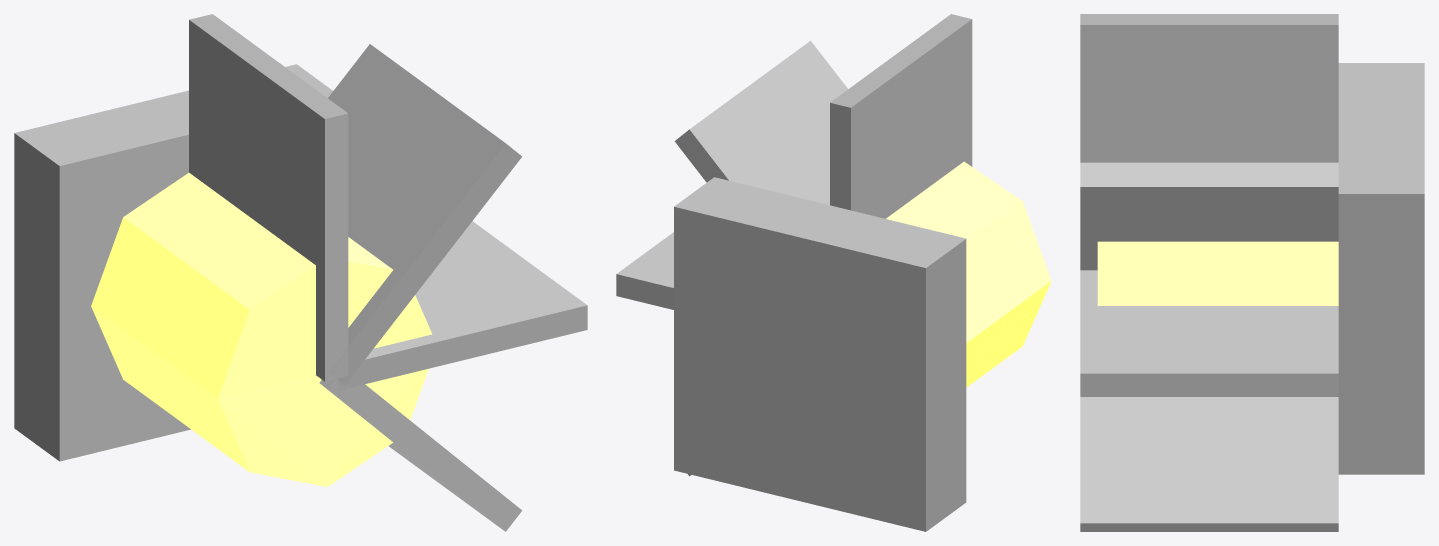
File: Lamp_Emergency.fbx
3 renders of one model, left to right at view 1: azimuth 30°, elevation 25°; view 2: azimuth 150°, elevation 25°; view 3: azimuth 270°, elevation 25°, orthographic. The views are drawn at different scales.
Visible parts, largest first — view 1: Lamp_Emergency; view 2: Lamp_Emergency; view 3: Lamp_Emergency.
Boxes of the visible parts, bbox=[...] form: Lamp_Emergency: bbox=[14, 14, 587, 531]; Lamp_Emergency: bbox=[616, 14, 1051, 531]; Lamp_Emergency: bbox=[1080, 14, 1424, 531].
Size of the model in its own units: 0.5 by 0.5569 by 0.4.
